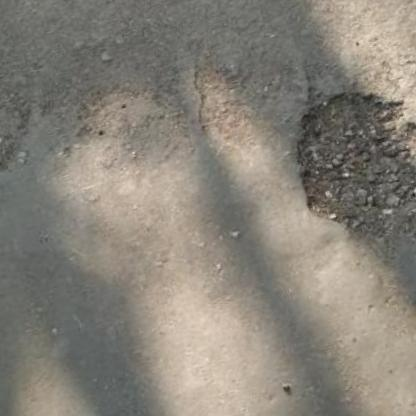pothole: (271, 63, 416, 250)
